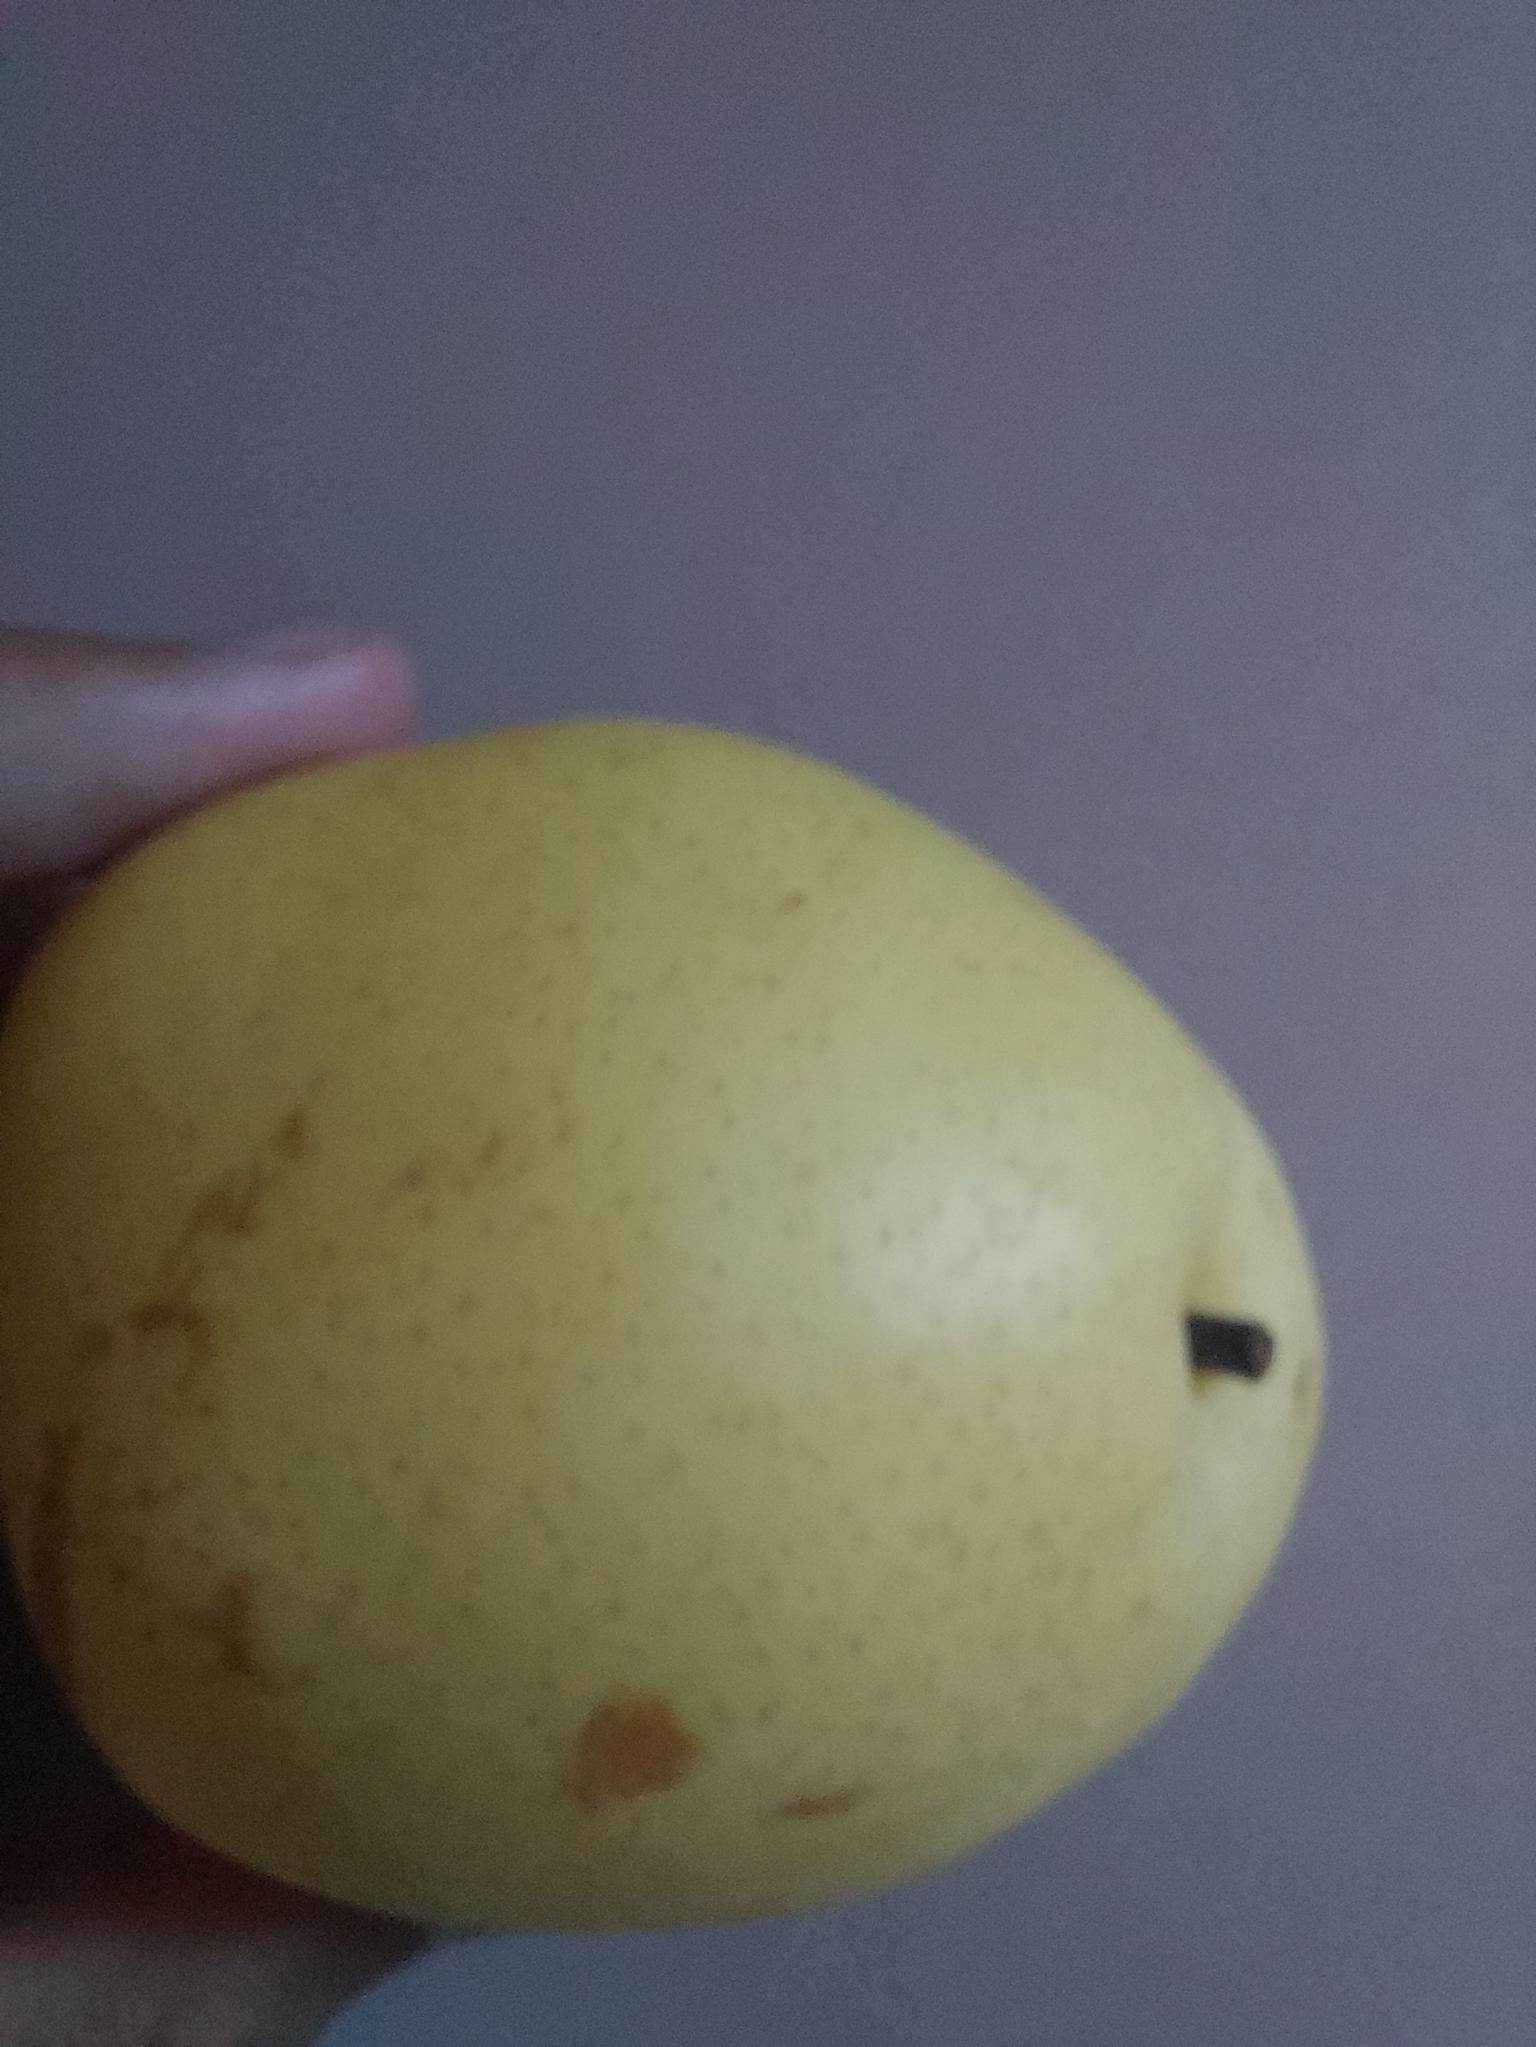Good Pear: (20, 753, 1344, 1932)
